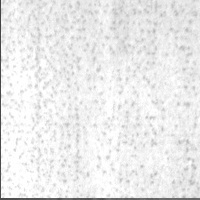inclusion: (53, 10, 115, 198), (157, 118, 175, 157)
pitted_surface: (1, 0, 200, 198)
